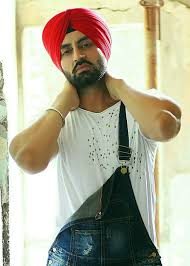helmet: (40, 5, 112, 92)
